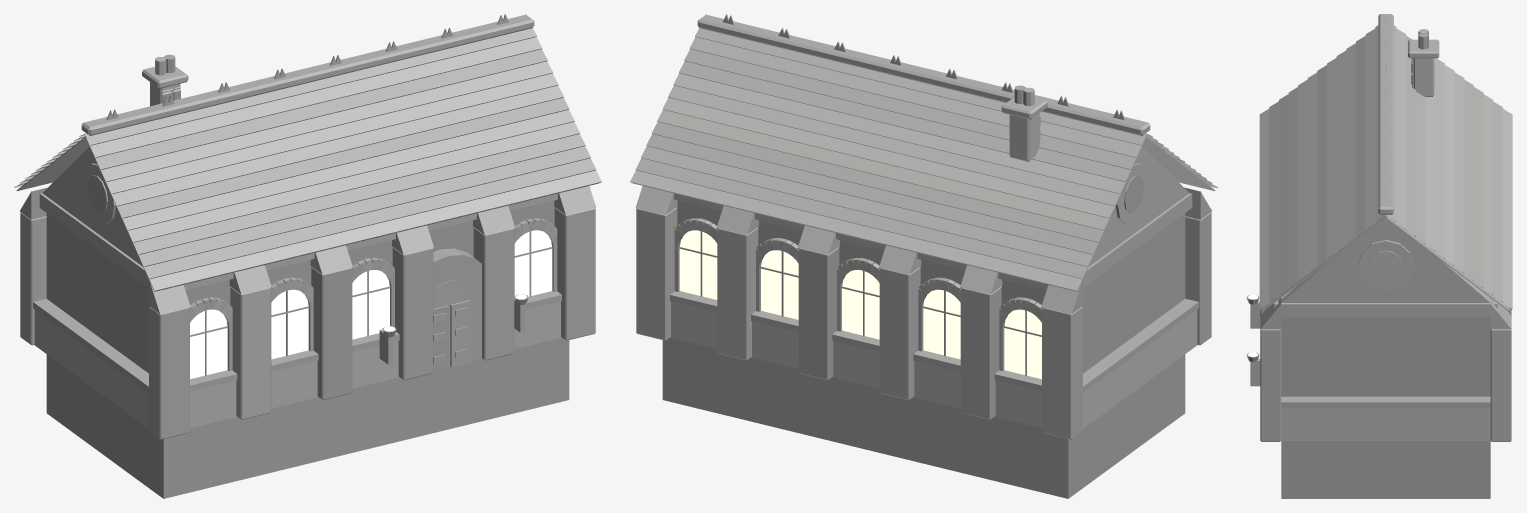
Rendered from hall_hub.glb.
The picture shows the model from 3 angles, left to right: view 1: azimuth 30°, elevation 25°; view 2: azimuth 150°, elevation 25°; view 3: azimuth 270°, elevation 25°; orthographic projection. The views are drawn at different scales.
Visible parts, largest first — view 1: SM_FK_hall_hub; view 2: SM_FK_hall_hub; view 3: SM_FK_hall_hub.
Boxes of the visible parts, x1,y1,x2,y2 form: SM_FK_hall_hub: (14, 14, 601, 498); SM_FK_hall_hub: (630, 14, 1217, 498); SM_FK_hall_hub: (1246, 14, 1512, 498).
Bounding box in the file's own units: 26.4 × 20.5 × 15.25.
